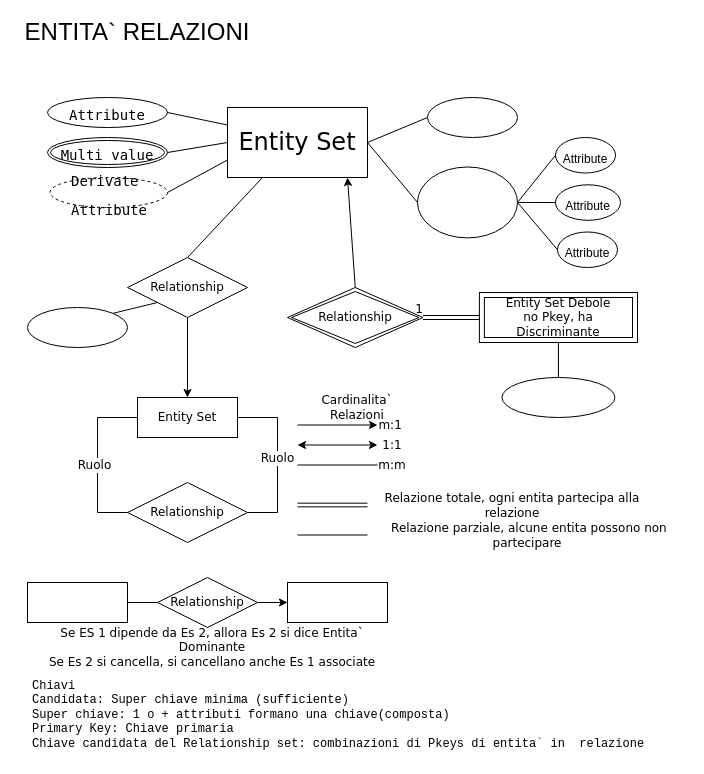
Some shapes in this 704 by 774 pixel diagram are drawn without their labels. The shapes that lost their labels are listed below. From the top down, each one's box as (x1, y1, x2, y2) in pixels, then its label:
(426, 96, 518, 138): Pkey
(416, 166, 518, 238): Composite Attribute
(26, 306, 128, 348): Relationship Attribute
(501, 376, 615, 418): Discriminant
(26, 582, 128, 622): ES 1
(286, 582, 388, 622): ES 2
